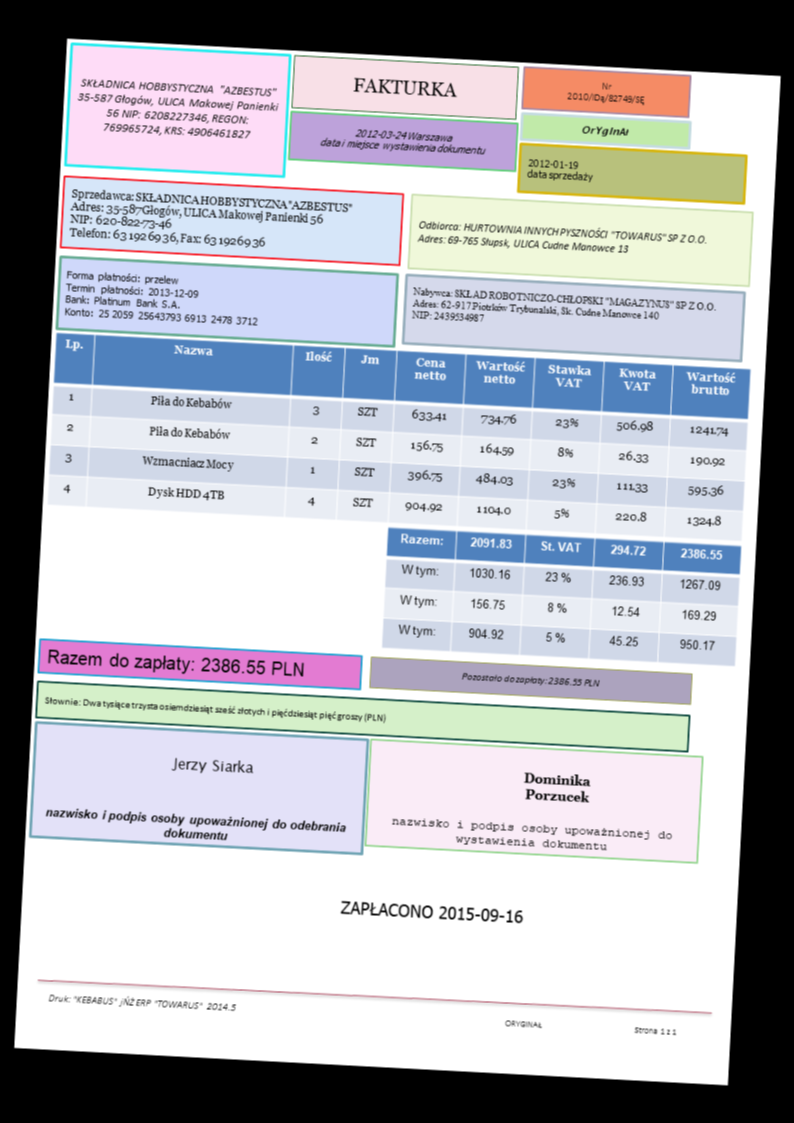Table: (45, 329, 752, 542), (379, 523, 742, 668)
TextBox: (65, 182, 357, 257), (408, 281, 718, 337), (72, 73, 282, 144), (42, 804, 349, 849), (387, 811, 676, 857), (414, 216, 709, 261), (61, 265, 263, 330), (41, 692, 389, 726), (45, 644, 305, 680), (316, 122, 489, 158), (337, 896, 528, 926), (46, 989, 240, 1015), (500, 1014, 680, 1039), (458, 668, 602, 691), (519, 767, 595, 807), (349, 73, 457, 100), (563, 76, 648, 107), (166, 752, 257, 779), (524, 153, 595, 185), (578, 119, 631, 140)
